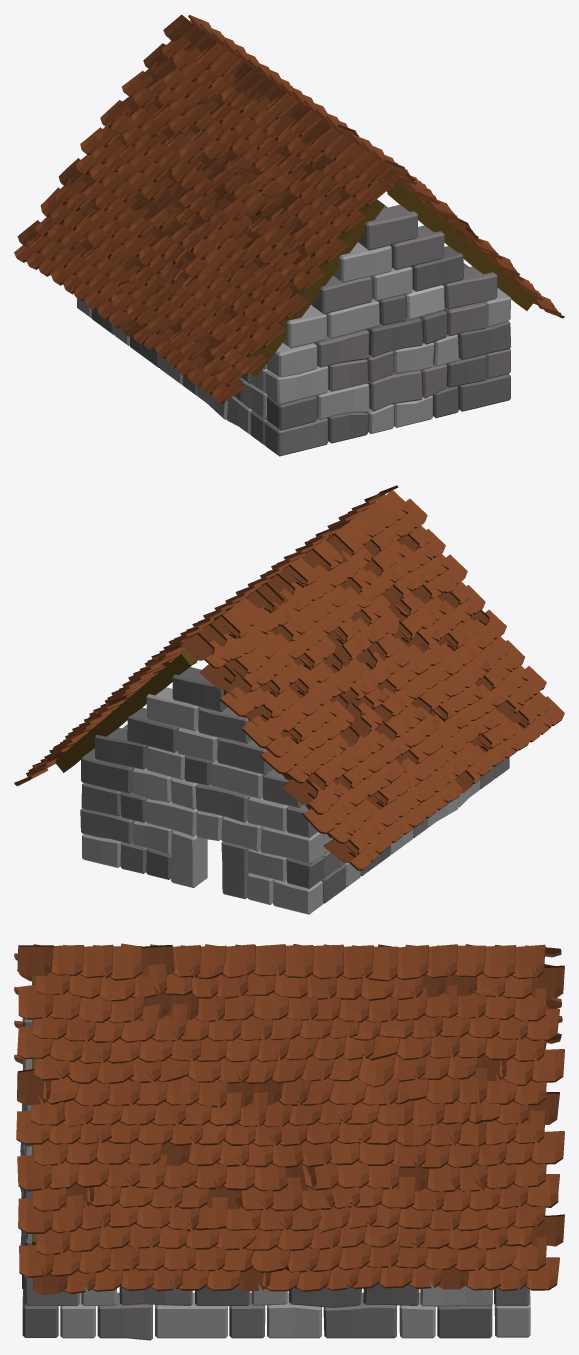
File: warehousev3.fbx
3 views of the same model, one above another, from view 1: azimuth 30°, elevation 25°; view 2: azimuth 150°, elevation 25°; view 3: azimuth 270°, elevation 25° (orthographic). The views are drawn at different scales.
Parts seen in each view (by area): view 1: Haus.002; view 2: Haus.002; view 3: Haus.002.
Boxes of the visible parts, bbox=[...] form: Haus.002: bbox=[14, 14, 564, 456]; Haus.002: bbox=[14, 485, 564, 914]; Haus.002: bbox=[14, 943, 564, 1340].
Size of the model in its own units: 2823 by 2030 by 3088.
